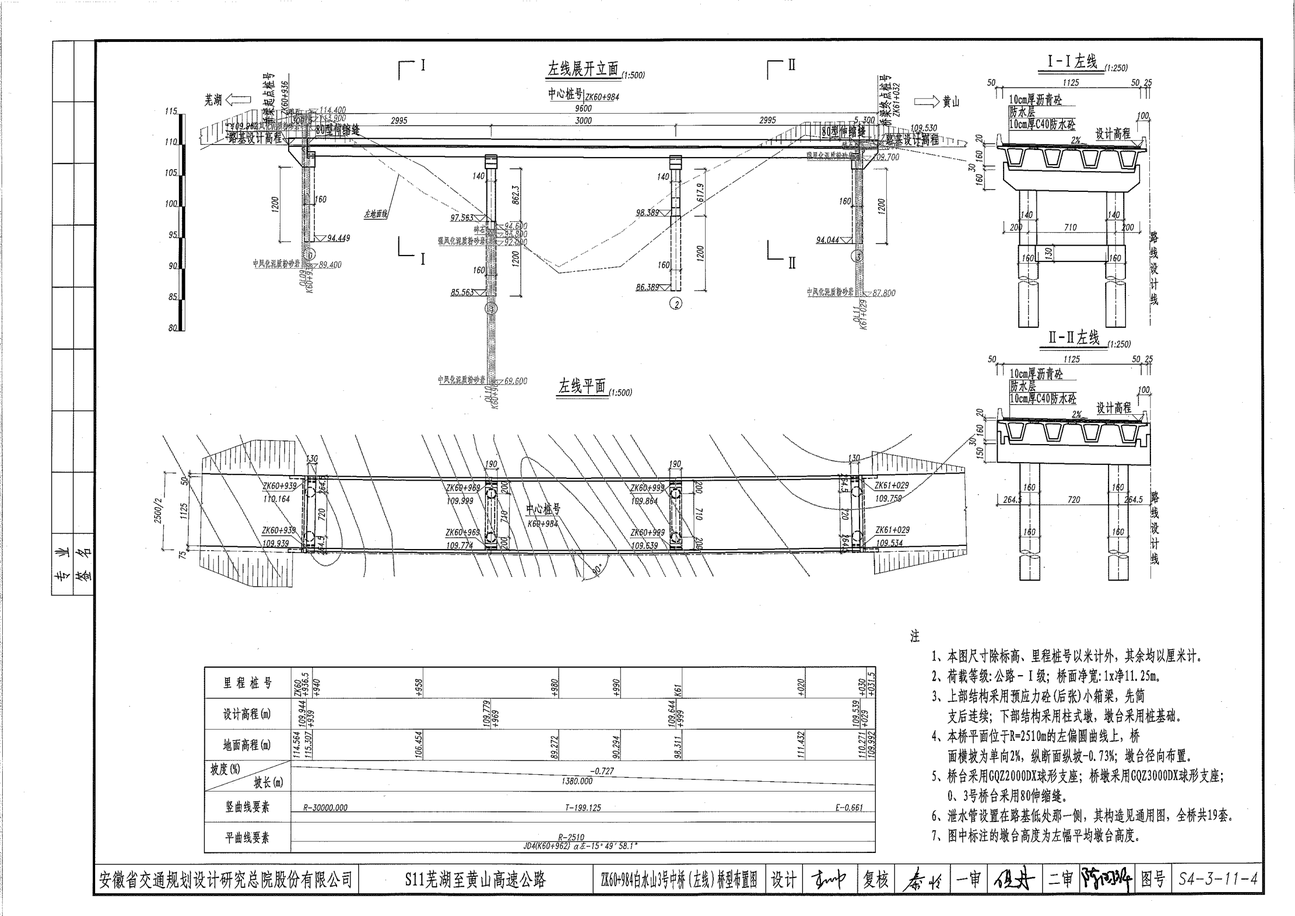A: (148, 52, 924, 334)
